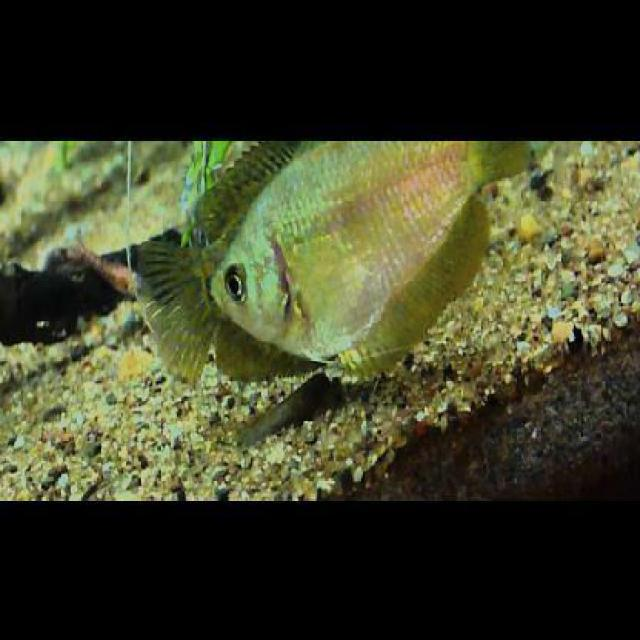Gourami: (213, 140, 529, 368)
